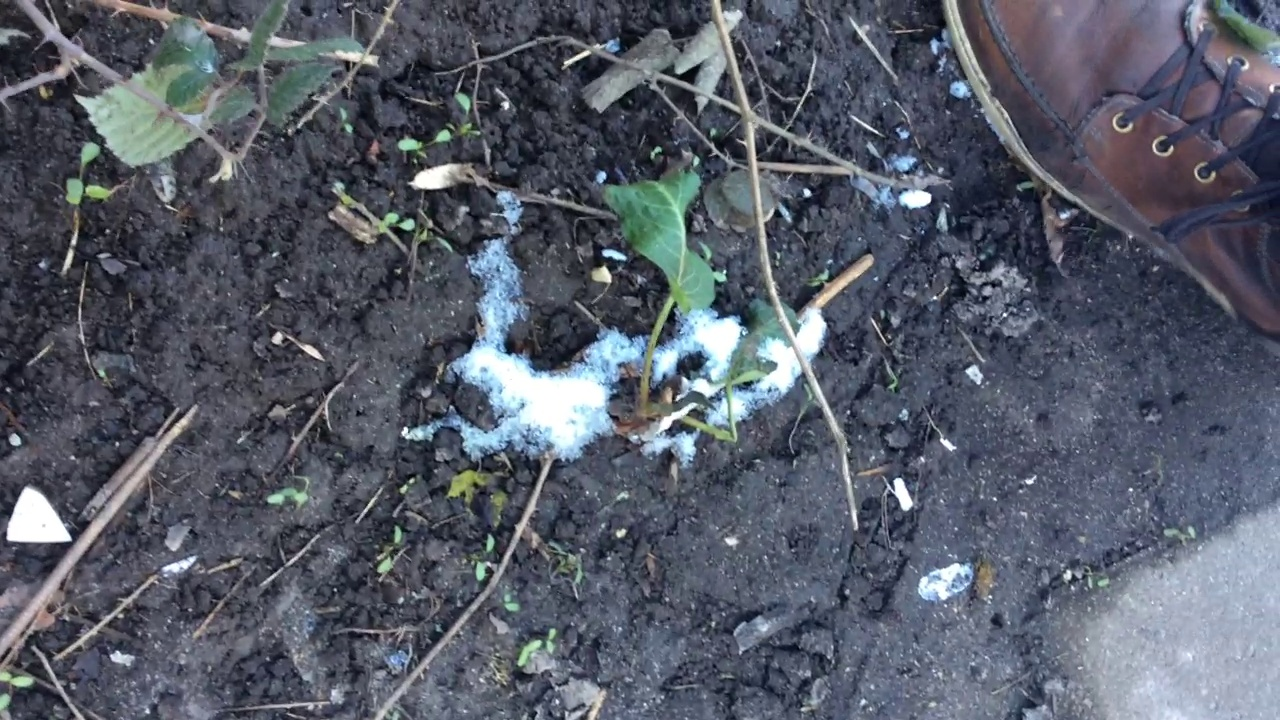root: (615, 384, 685, 441)
rumex: (593, 161, 801, 454)
